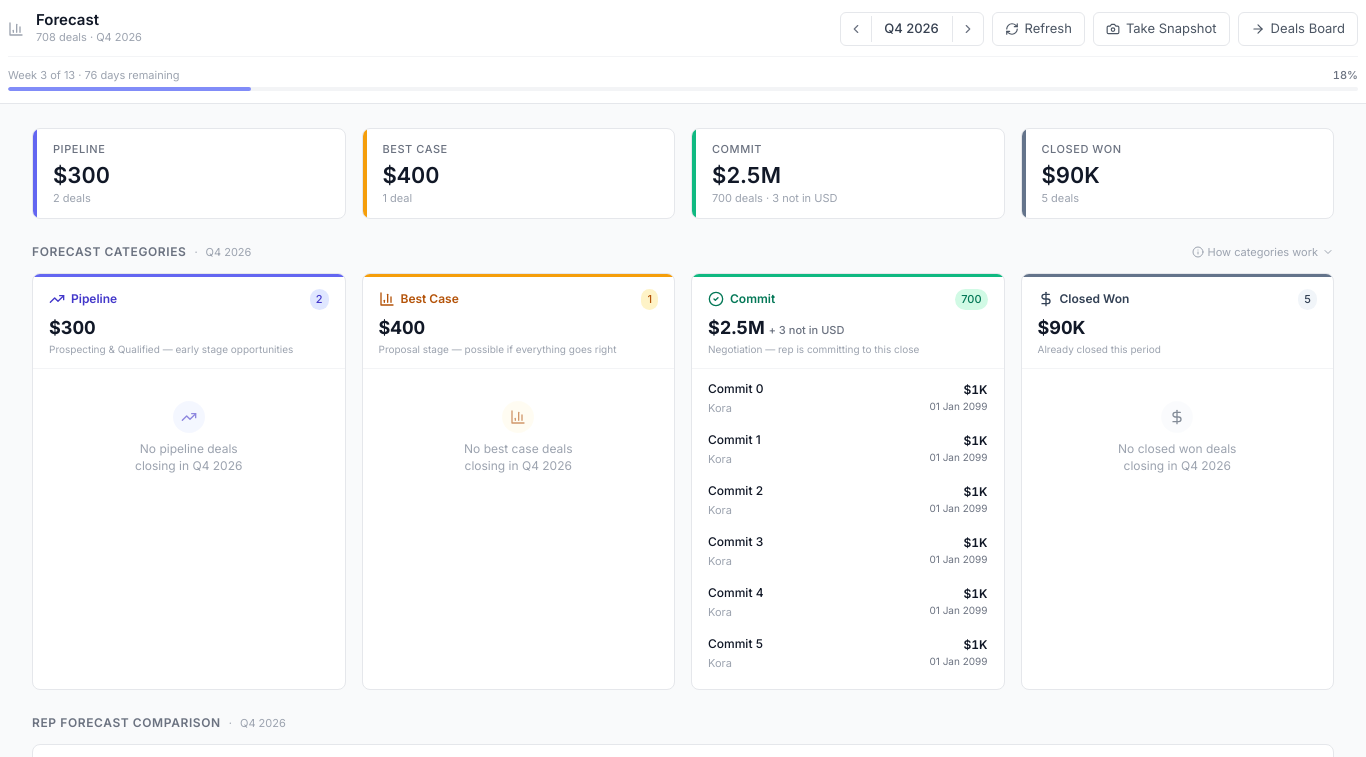
Test: ForecastPage — the server's quarter › a refused snapshot is shown, and nothing claims it was saved
Expected: the text "700 deals · 3 not in USD" is shown, [712,190,837,204]
Click the button "Take Snapshot" at (1161, 29), box [1093,12,1230,46]
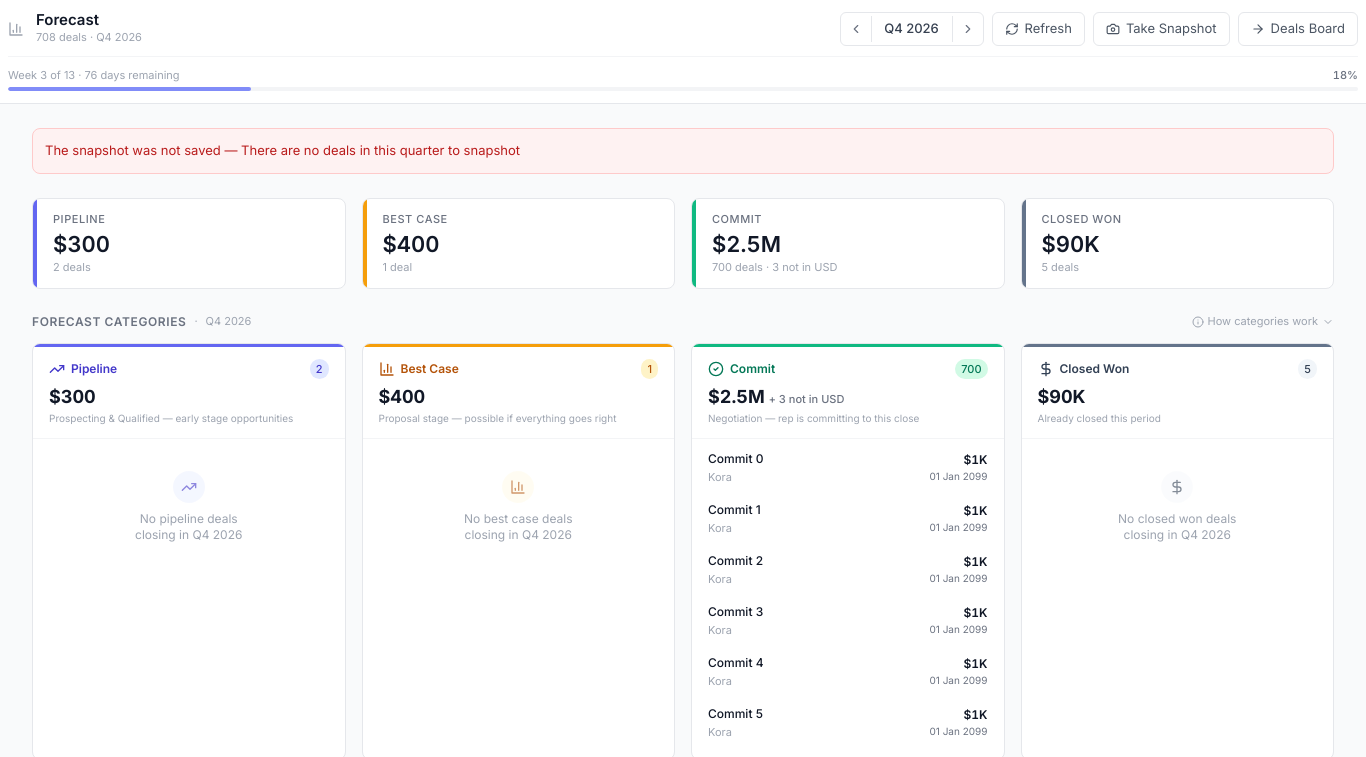
Expected: the text "The snapshot was not saved — There are no deals in this quarter to snapshot" is shown, [32,128,1334,174]
